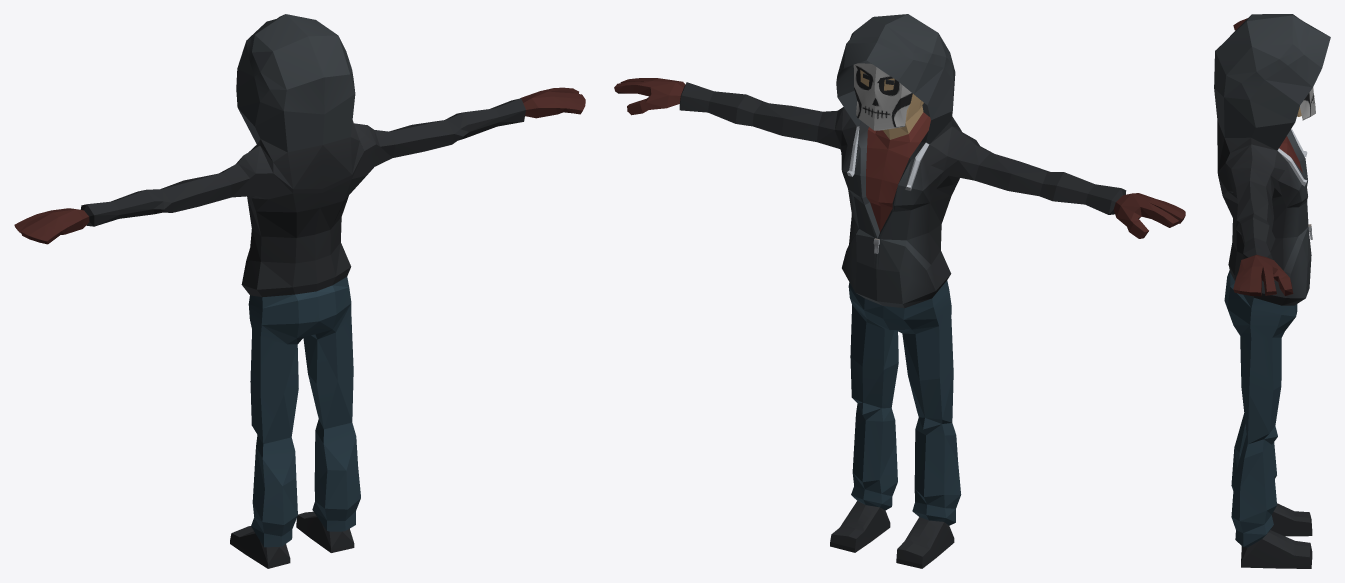
The model's file is Mack_Henchmen.fbx.
The picture shows the model from 3 angles, left to right: view 1: azimuth 30°, elevation 25°; view 2: azimuth 150°, elevation 25°; view 3: azimuth 270°, elevation 25°; orthographic projection.
Parts seen in each view (by area): view 1: Character_Male_Hoodie; view 2: Character_Male_Hoodie, Character_Male_Hoodie.001; view 3: Character_Male_Hoodie, Character_Male_Hoodie.001.
Part boxes in pixels (x1,y1,x2,y2): Character_Male_Hoodie: (14, 14, 585, 568); Character_Male_Hoodie: (614, 14, 1185, 568); Character_Male_Hoodie.001: (853, 63, 912, 130); Character_Male_Hoodie: (1214, 14, 1330, 568); Character_Male_Hoodie.001: (1300, 87, 1315, 120).
Size of the model in its own units: 2.05 by 1.83 by 0.3653.
2 materials, 2 textured.
